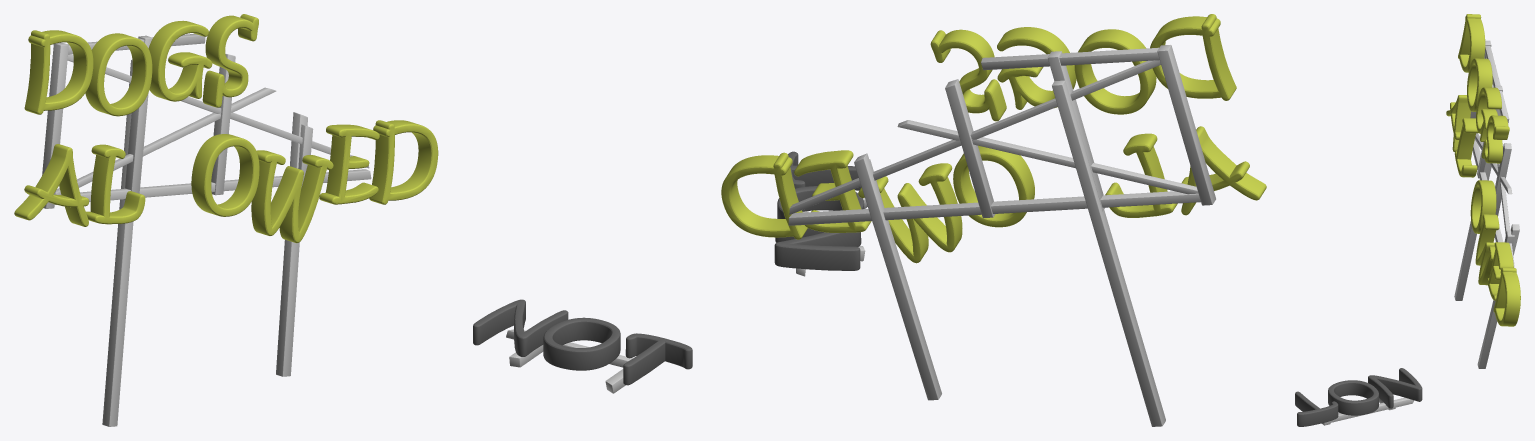
Rendered from Dogs not allowed broken.fbx.
3 views of the same model, side by side, from view 1: azimuth 30°, elevation 25°; view 2: azimuth 150°, elevation 25°; view 3: azimuth 270°, elevation 25° (orthographic). The views are drawn at different scales.
Parts seen in each view (by area): view 1: Text, Dogs_Not_Allowed_Broken, Not; view 2: Text, Dogs_Not_Allowed_Broken, Not; view 3: Text, Dogs_Not_Allowed_Broken, Not.
Boxes of the visible parts, bbox=[...] form: Text: bbox=[14, 14, 438, 243]; Dogs_Not_Allowed_Broken: bbox=[42, 33, 632, 426]; Not: bbox=[473, 299, 692, 385]; Text: bbox=[721, 14, 1266, 263]; Dogs_Not_Allowed_Broken: bbox=[788, 45, 1215, 426]; Not: bbox=[774, 151, 864, 270]; Text: bbox=[1446, 14, 1520, 326]; Dogs_Not_Allowed_Broken: bbox=[1322, 40, 1519, 425]; Not: bbox=[1295, 368, 1422, 426].
Bounding box in the file's own units: 576 × 405 × 304.
